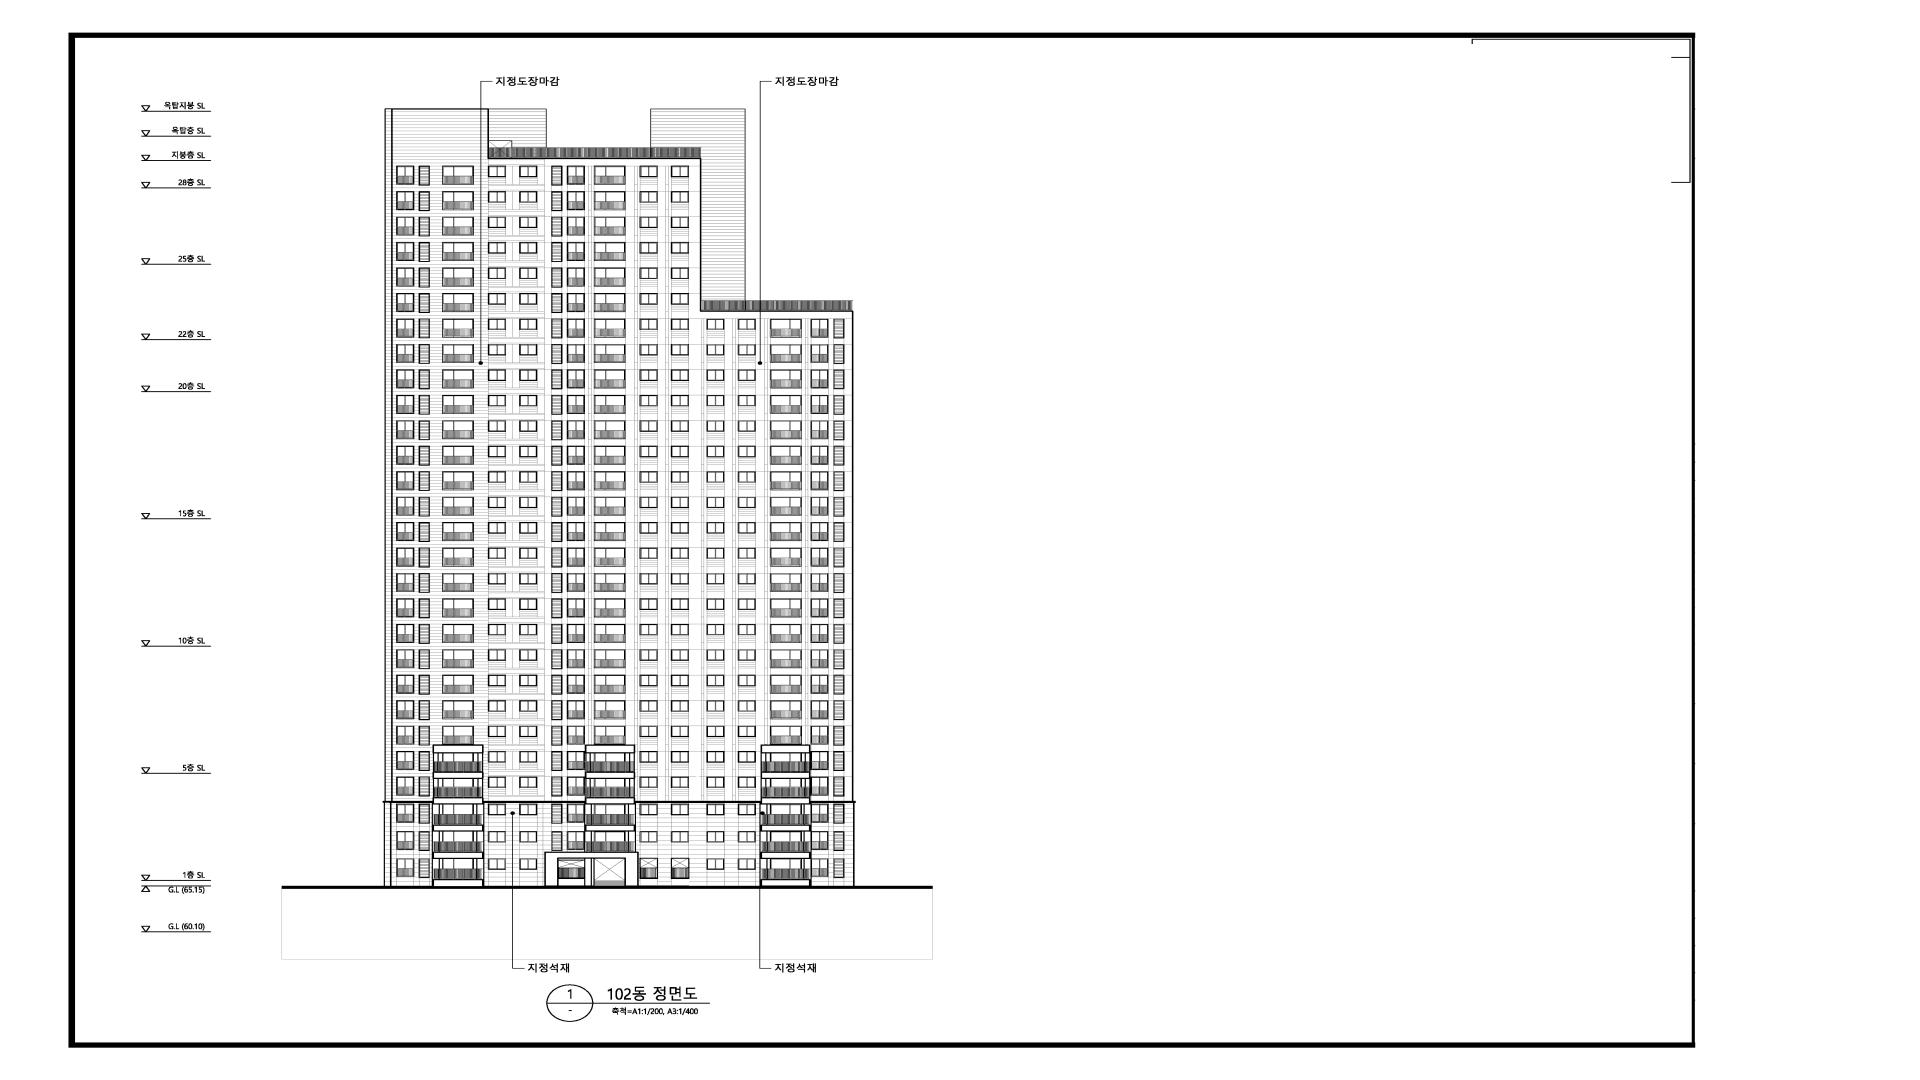door: (488, 140, 512, 159)
wall: (384, 109, 855, 889)
window: (432, 803, 484, 826), (760, 803, 811, 826), (585, 830, 636, 853), (585, 803, 636, 826), (759, 831, 811, 853), (759, 858, 811, 880), (432, 831, 484, 853), (432, 858, 484, 880), (760, 752, 810, 773), (433, 752, 483, 773), (585, 778, 635, 799), (585, 752, 635, 773), (760, 778, 810, 798), (433, 778, 483, 798), (594, 857, 626, 880), (442, 649, 474, 669), (594, 700, 626, 720), (594, 598, 626, 618), (594, 547, 626, 567), (442, 166, 474, 185), (442, 191, 474, 210), (442, 217, 474, 236), (442, 242, 474, 261), (442, 268, 474, 287), (442, 293, 474, 312), (442, 319, 474, 338), (442, 344, 474, 363), (442, 370, 474, 389), (442, 395, 474, 414), (442, 421, 474, 440), (442, 446, 474, 465), (442, 471, 474, 490), (442, 497, 474, 516), (442, 523, 474, 542), (594, 242, 626, 261), (594, 217, 626, 236), (770, 421, 802, 440), (770, 446, 802, 465), (770, 497, 802, 516), (770, 573, 802, 592), (770, 624, 802, 643), (770, 675, 802, 694), (770, 726, 802, 745), (442, 548, 474, 567), (442, 573, 474, 592), (442, 598, 474, 617), (442, 624, 474, 643), (442, 675, 474, 694), (442, 700, 474, 719), (442, 726, 474, 745), (594, 726, 626, 745), (594, 675, 626, 694), (594, 649, 626, 668), (594, 624, 626, 643), (594, 573, 626, 592), (593, 522, 625, 541), (594, 496, 626, 515), (594, 471, 626, 490), (594, 446, 626, 465), (594, 420, 626, 439), (594, 395, 626, 414), (594, 369, 626, 388), (594, 344, 626, 363), (594, 319, 626, 338), (594, 293, 625, 312), (594, 268, 625, 287), (594, 191, 625, 210), (594, 166, 625, 185), (770, 319, 801, 338), (770, 344, 801, 363), (770, 369, 801, 388), (770, 395, 801, 414), (770, 522, 801, 541), (770, 472, 802, 490), (770, 548, 802, 566), (770, 599, 801, 617), (770, 650, 801, 668), (770, 701, 801, 719), (566, 268, 585, 287), (566, 369, 585, 388), (566, 547, 585, 566), (810, 751, 828, 770), (810, 726, 828, 745), (811, 675, 829, 694), (811, 649, 829, 668), (810, 624, 828, 643), (811, 598, 829, 617), (811, 573, 829, 592), (810, 548, 828, 567), (810, 522, 828, 541), (811, 497, 829, 516), (811, 472, 829, 491), (810, 446, 828, 465), (811, 420, 829, 439), (811, 395, 829, 414), (811, 370, 829, 389), (811, 344, 829, 363), (811, 319, 829, 338), (396, 191, 414, 210), (396, 166, 414, 185), (567, 166, 585, 185), (567, 192, 585, 211), (567, 217, 585, 236), (567, 242, 585, 261), (567, 293, 585, 312), (567, 318, 585, 337), (567, 344, 585, 363), (567, 395, 585, 414), (567, 420, 585, 439), (567, 446, 585, 465), (567, 471, 585, 490), (567, 497, 585, 516), (567, 522, 585, 541), (567, 573, 585, 592), (567, 624, 585, 643), (567, 650, 585, 669), (567, 675, 585, 694), (567, 700, 585, 719), (567, 726, 585, 745), (567, 751, 585, 770), (567, 777, 585, 796), (567, 804, 585, 823), (567, 831, 585, 850), (811, 859, 829, 878), (810, 831, 828, 850), (811, 803, 829, 822), (810, 777, 828, 796), (396, 831, 414, 850), (396, 751, 414, 770), (396, 726, 414, 745), (396, 700, 414, 719), (396, 675, 414, 694), (396, 624, 414, 643), (396, 598, 414, 617), (396, 573, 414, 592), (396, 522, 414, 541), (396, 471, 414, 490), (396, 446, 414, 465), (396, 395, 414, 414), (396, 369, 414, 388), (396, 344, 414, 363), (396, 319, 414, 338), (396, 293, 414, 312), (396, 267, 414, 286), (396, 242, 414, 261), (396, 217, 414, 236), (811, 701, 829, 719), (567, 599, 585, 617), (396, 859, 414, 877), (396, 804, 414, 822), (396, 777, 414, 795), (396, 650, 414, 668), (396, 548, 414, 566), (396, 497, 414, 515), (396, 421, 414, 439), (833, 547, 845, 568), (551, 344, 563, 364), (551, 700, 563, 720), (551, 831, 563, 851), (833, 649, 845, 669), (833, 522, 845, 542), (418, 803, 430, 823), (833, 421, 845, 441), (551, 318, 562, 339), (551, 496, 562, 517), (551, 776, 562, 797), (418, 548, 430, 567), (519, 369, 538, 381), (706, 803, 725, 815), (706, 598, 725, 610), (706, 471, 725, 483), (706, 445, 725, 457), (706, 420, 725, 432), (706, 369, 725, 381), (706, 344, 725, 356), (639, 267, 658, 279), (737, 751, 756, 763), (519, 700, 538, 712), (639, 776, 658, 788), (639, 751, 658, 763), (639, 674, 658, 686), (639, 471, 658, 483), (557, 860, 585, 868), (418, 700, 429, 720), (419, 675, 430, 695), (419, 573, 430, 593), (419, 522, 430, 542), (418, 471, 429, 491), (419, 420, 430, 440), (419, 369, 430, 389), (419, 318, 430, 338), (419, 293, 430, 313), (419, 242, 430, 262), (419, 191, 430, 211), (419, 166, 430, 186), (551, 166, 562, 186), (551, 191, 562, 211), (551, 217, 562, 237), (551, 242, 562, 262), (551, 267, 562, 287), (551, 293, 562, 313), (551, 369, 562, 389), (551, 395, 562, 415), (551, 420, 562, 440), (551, 446, 562, 466), (551, 472, 562, 492), (551, 522, 562, 542), (551, 548, 562, 568), (551, 573, 562, 593), (551, 598, 562, 618), (551, 624, 562, 644), (551, 649, 562, 669), (551, 675, 562, 695), (551, 726, 562, 746), (551, 751, 562, 771), (551, 804, 562, 824), (833, 858, 844, 878), (833, 831, 844, 851), (833, 804, 844, 824), (833, 777, 844, 797), (833, 751, 844, 771), (834, 726, 845, 746), (833, 700, 844, 720), (834, 675, 845, 695), (833, 624, 844, 644), (833, 598, 844, 618), (833, 573, 844, 593), (833, 497, 844, 517), (833, 471, 844, 491), (833, 446, 844, 466), (418, 831, 429, 851), (419, 751, 430, 771), (833, 395, 844, 415), (833, 369, 844, 389), (833, 344, 844, 364), (833, 318, 844, 338), (488, 547, 506, 559), (488, 522, 506, 534), (488, 471, 506, 483), (488, 420, 506, 432), (488, 369, 506, 381), (488, 344, 506, 356), (488, 318, 506, 330), (488, 293, 506, 305), (488, 267, 506, 279), (488, 191, 506, 203), (488, 165, 506, 177), (519, 191, 537, 203), (519, 267, 537, 279), (519, 420, 537, 432), (519, 471, 537, 483), (671, 776, 689, 788), (707, 700, 725, 712), (706, 318, 724, 330), (738, 395, 756, 407), (738, 471, 756, 483), (738, 522, 756, 534), (640, 191, 658, 203), (671, 165, 689, 177), (671, 242, 689, 254), (671, 293, 689, 305), (671, 369, 689, 381), (671, 420, 689, 432), (671, 471, 689, 483), (671, 497, 689, 509), (671, 522, 689, 534), (671, 547, 689, 559), (671, 649, 689, 661), (671, 700, 689, 712), (671, 725, 689, 737), (738, 649, 756, 661), (738, 700, 756, 712), (738, 776, 756, 788), (738, 803, 756, 815), (738, 858, 756, 870), (519, 497, 537, 509), (519, 547, 537, 559), (519, 573, 537, 585), (519, 598, 537, 610), (519, 649, 537, 661), (519, 831, 537, 843), (640, 700, 658, 712), (640, 649, 658, 661), (640, 598, 658, 610), (640, 445, 658, 457), (640, 420, 658, 432), (419, 650, 430, 669), (419, 624, 430, 643), (419, 599, 430, 618), (419, 497, 430, 516), (419, 446, 430, 465), (419, 395, 430, 414), (419, 344, 430, 363), (419, 268, 430, 287), (419, 217, 430, 236), (706, 859, 725, 870), (706, 831, 725, 842), (706, 777, 725, 788), (706, 751, 725, 762), (706, 726, 725, 737), (706, 675, 725, 686), (706, 650, 725, 661), (706, 624, 725, 635), (706, 573, 725, 584), (706, 548, 725, 559), (706, 522, 725, 533), (706, 497, 725, 508), (639, 395, 658, 406), (639, 370, 658, 381), (639, 344, 658, 355), (639, 319, 658, 330), (639, 242, 658, 253), (639, 166, 658, 177), (419, 859, 430, 878), (419, 777, 430, 796), (419, 726, 430, 745), (639, 831, 658, 842), (639, 804, 658, 815), (639, 624, 658, 635), (639, 573, 658, 584), (639, 522, 658, 533), (639, 497, 658, 508), (488, 700, 506, 711), (488, 675, 506, 686), (488, 650, 506, 661), (488, 624, 506, 635), (488, 599, 506, 610), (488, 573, 506, 584), (488, 497, 506, 508), (488, 446, 506, 457), (488, 395, 506, 406), (488, 242, 506, 253), (488, 217, 506, 228), (519, 166, 537, 177), (519, 217, 537, 228), (519, 242, 537, 253), (519, 293, 537, 304), (519, 319, 537, 330), (519, 344, 537, 355), (519, 395, 537, 406), (519, 446, 537, 457), (671, 804, 689, 815), (671, 831, 689, 842), (706, 395, 724, 406), (738, 319, 756, 330), (738, 344, 756, 355), (738, 370, 756, 381), (738, 421, 756, 432), (738, 446, 756, 457), (738, 497, 756, 508), (488, 859, 506, 870), (488, 831, 506, 842), (488, 804, 506, 815), (488, 777, 506, 788), (488, 751, 506, 762), (488, 726, 506, 737), (639, 293, 657, 304), (640, 217, 658, 228), (671, 191, 689, 202), (671, 217, 689, 228), (671, 268, 689, 279), (671, 319, 689, 330), (671, 344, 689, 355), (671, 395, 689, 406), (671, 446, 689, 457), (671, 573, 689, 584), (671, 599, 689, 610), (671, 624, 689, 635), (671, 675, 689, 686), (671, 751, 689, 762), (738, 548, 756, 559), (738, 573, 756, 584), (738, 599, 756, 610), (738, 624, 756, 635), (738, 675, 756, 686), (738, 726, 756, 737), (738, 831, 756, 842), (519, 522, 537, 533), (519, 624, 537, 635), (519, 675, 537, 686), (519, 726, 537, 737), (519, 751, 537, 762), (519, 777, 537, 788), (519, 804, 537, 815), (519, 859, 537, 870), (640, 726, 658, 737), (640, 548, 658, 559), (639, 858, 658, 868), (671, 858, 690, 868)
